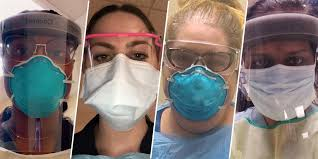masked: (89, 11, 159, 130), (1, 12, 77, 118), (249, 13, 317, 131), (170, 9, 237, 124)
